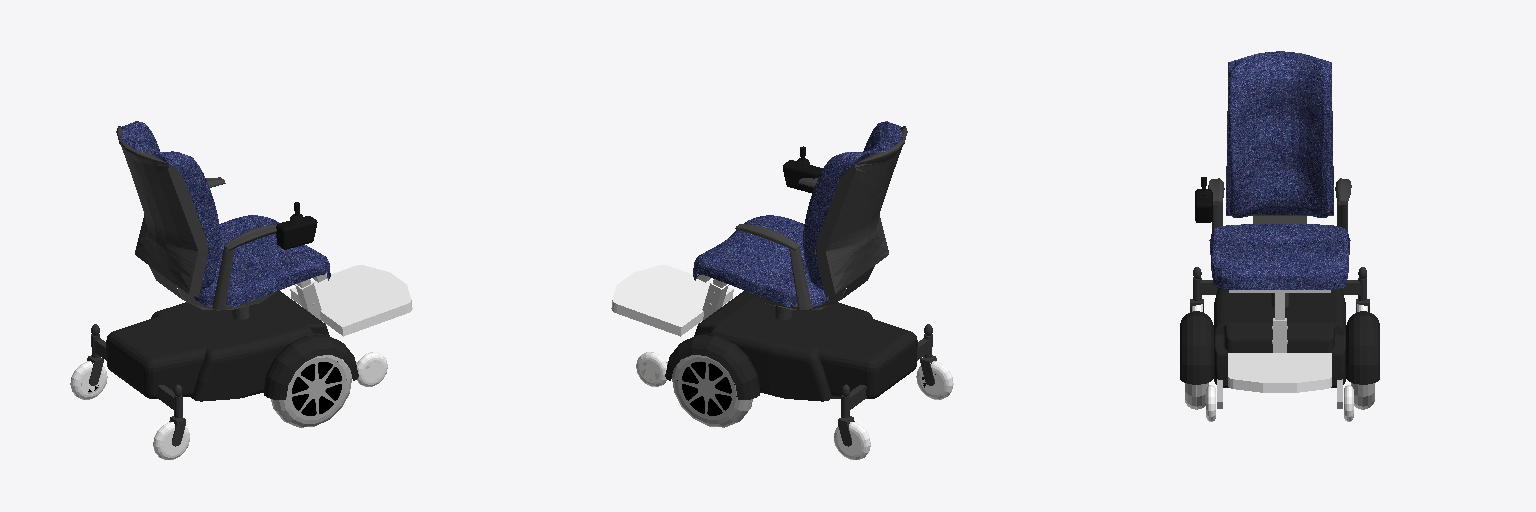
3 views of the same model, side by side, from view 1: azimuth 30°, elevation 25°; view 2: azimuth 150°, elevation 25°; view 3: azimuth 270°, elevation 25° (orthographic).
Parts seen in each view (by area): view 1: Mesh4 Group5 Group1 Model, Mesh10 Group9 Group1 Model, Mesh8 Group8 Group1 Model, Mesh28 Group27 Group1 Model, Mesh6 Group7 Group1 Model, Mesh58 Group51 Group1 Model, Mesh44 Group37 Group1 Model, Mesh55 Group48 Group1 Model, Mesh49 Group42 Group1 Model, Mesh3 Group4 Group1 Model, Mesh45 Group38 Group1 Model, Mesh2 Group3 Group1 Model (+2 smaller); view 2: Mesh4 Group5 Group1 Model, Mesh10 Group9 Group1 Model, Mesh8 Group8 Group1 Model, Mesh28 Group27 Group1 Model, Mesh59 Group52 Group1 Model, Mesh6 Group7 Group1 Model, Mesh53 Group46 Group1 Model, Mesh5 Group6 Group1 Model, Mesh2 Group3 Group1 Model, Mesh3 Group4 Group1 Model, Mesh34 Group33 Group1 Model, Mesh16 Group15 Group1 Model (+2 smaller); view 3: Mesh6 Group7 Group1 Model, Mesh8 Group8 Group1 Model, Mesh4 Group5 Group1 Model, Mesh28 Group27 Group1 Model, Mesh44 Group37 Group1 Model, Mesh53 Group46 Group1 Model.
Part boxes in pixels (bbox=[...]): Mesh4 Group5 Group1 Model: bbox=[106, 290, 329, 401]; Mesh10 Group9 Group1 Model: bbox=[116, 127, 208, 296]; Mesh8 Group8 Group1 Model: bbox=[194, 215, 330, 306]; Mesh28 Group27 Group1 Model: bbox=[290, 265, 412, 336]; Mesh6 Group7 Group1 Model: bbox=[118, 121, 220, 290]; Mesh58 Group51 Group1 Model: bbox=[288, 357, 346, 419]; Mesh44 Group37 Group1 Model: bbox=[263, 335, 358, 399]; Mesh55 Group48 Group1 Model: bbox=[272, 355, 351, 427]; Mesh49 Group42 Group1 Model: bbox=[276, 216, 317, 249]; Mesh3 Group4 Group1 Model: bbox=[153, 422, 189, 459]; Mesh45 Group38 Group1 Model: bbox=[357, 352, 387, 386]; Mesh2 Group3 Group1 Model: bbox=[70, 361, 107, 399]; Mesh4 Group5 Group1 Model: bbox=[694, 290, 917, 401]; Mesh10 Group9 Group1 Model: bbox=[815, 127, 907, 296]; Mesh8 Group8 Group1 Model: bbox=[693, 215, 829, 306]; Mesh28 Group27 Group1 Model: bbox=[611, 265, 733, 336]; Mesh59 Group52 Group1 Model: bbox=[672, 355, 751, 427]; Mesh6 Group7 Group1 Model: bbox=[803, 121, 905, 290]; Mesh53 Group46 Group1 Model: bbox=[665, 335, 760, 399]; Mesh5 Group6 Group1 Model: bbox=[770, 355, 820, 400]; Mesh2 Group3 Group1 Model: bbox=[834, 422, 870, 459]; Mesh3 Group4 Group1 Model: bbox=[916, 361, 953, 399]; Mesh34 Group33 Group1 Model: bbox=[636, 352, 666, 386]; Mesh16 Group15 Group1 Model: bbox=[789, 246, 811, 309]; Mesh6 Group7 Group1 Model: bbox=[1226, 51, 1333, 217]; Mesh8 Group8 Group1 Model: bbox=[1209, 224, 1350, 289]; Mesh4 Group5 Group1 Model: bbox=[1214, 288, 1345, 387]; Mesh28 Group27 Group1 Model: bbox=[1228, 353, 1331, 392]; Mesh44 Group37 Group1 Model: bbox=[1180, 311, 1213, 384]; Mesh53 Group46 Group1 Model: bbox=[1346, 311, 1379, 384].
Size of the model in its own units: 955 by 907 by 578.
Materials: 12 (2 with a texture image).